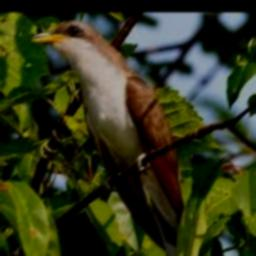Cuckoo: (33, 17, 195, 256)
